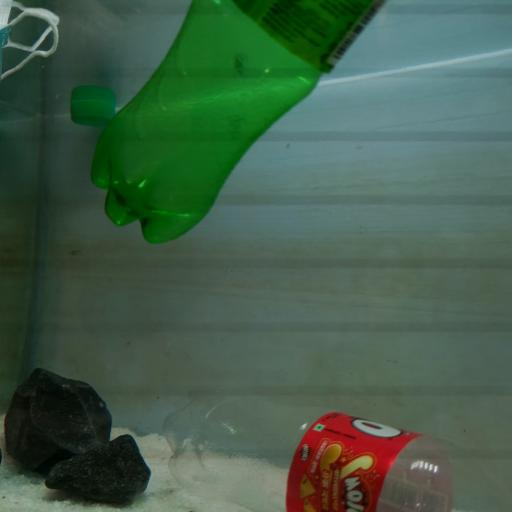bottle_cap: (67, 90, 120, 128)
mask: (0, 0, 63, 84)
plastic_bottle: (86, 2, 387, 248), (168, 391, 496, 512)
